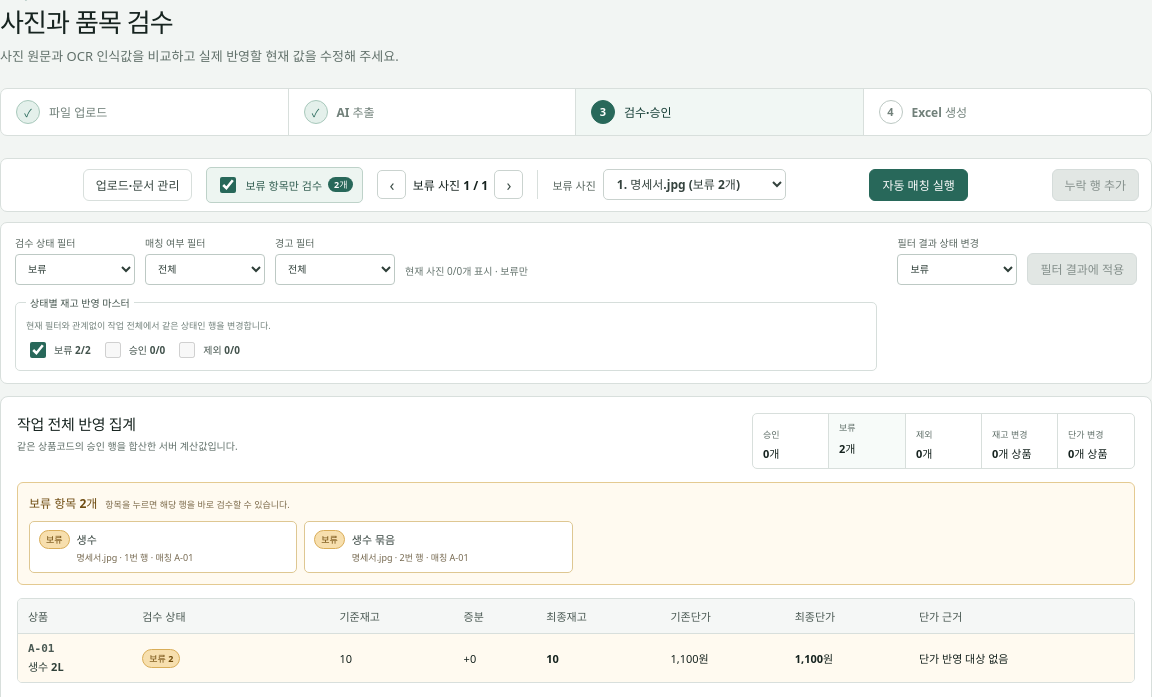
Test case: 사진과 품목 검수 › 집계 상품을 클릭하면 이동 없이 분할 편집 화면을 열고 값을 저장한다
Click the button with aria-label "A-01 생수 2L 바로 수정".
click(75, 658)  # box [28, 642, 122, 674]
(page scrolled)
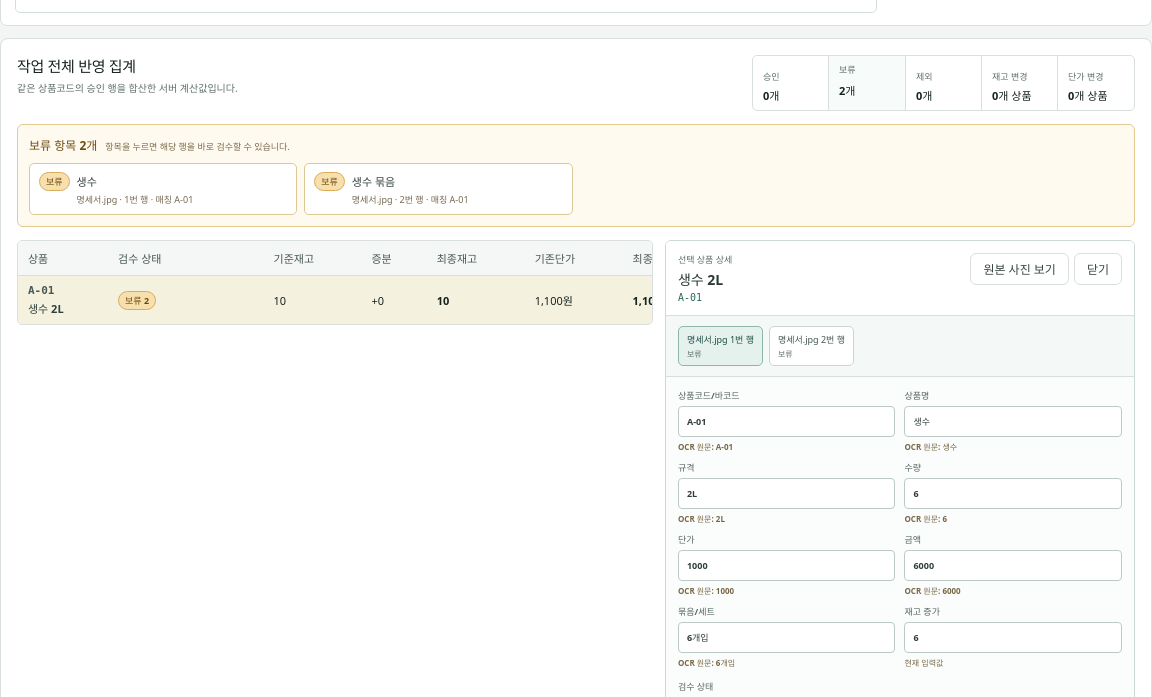
Check: the heading "생수 2L" is shown, box [678, 270, 723, 289]
Click the button "명세서.jpg 2번 행 보류".
click(812, 346)  # box [769, 326, 854, 366]
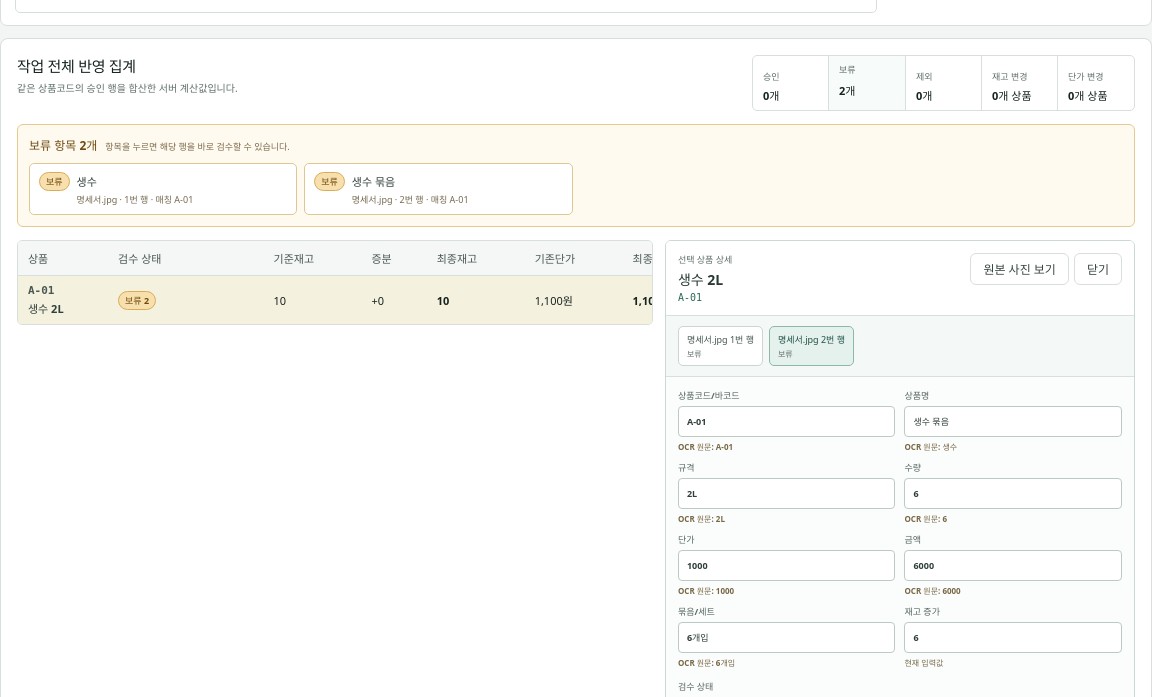
Check: the field named "명세서.jpg 2번 행 상품명" holds "생수 묶음", box [904, 406, 1122, 437]
Click the button "명세서.jpg 1번 행 보류".
click(720, 346)  # box [678, 326, 763, 366]
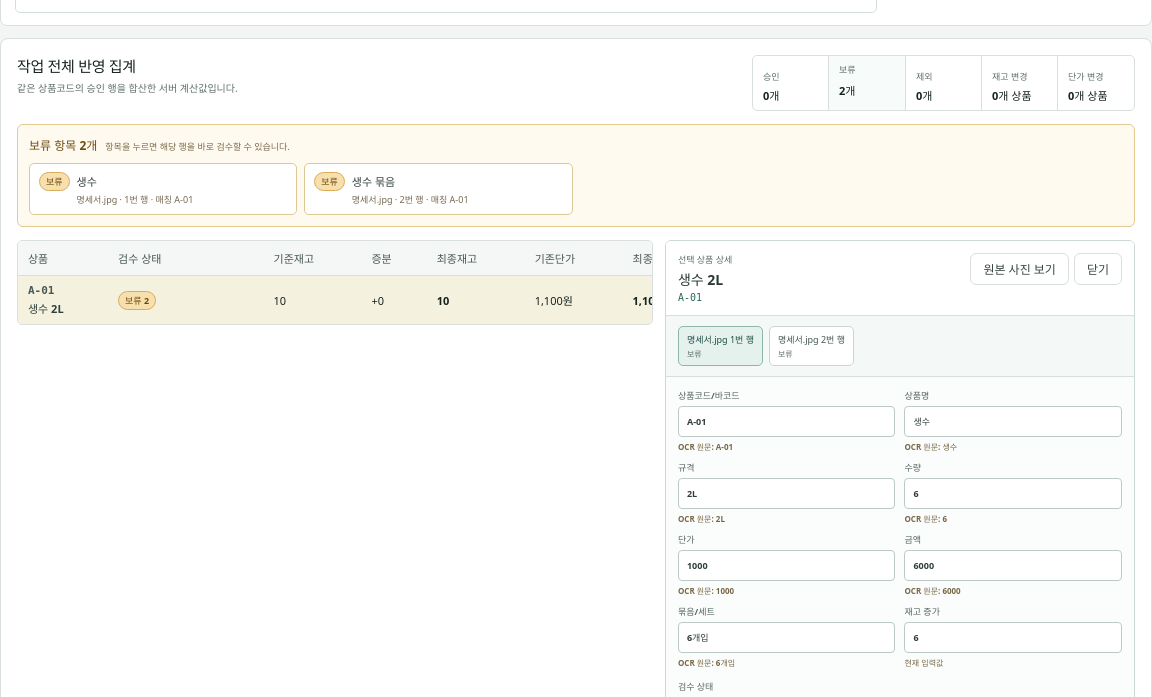
Replace the text in the number field named "명세서.jpg 1번 행 재고 증가" with "8" at (1013, 637), box [904, 622, 1122, 653]
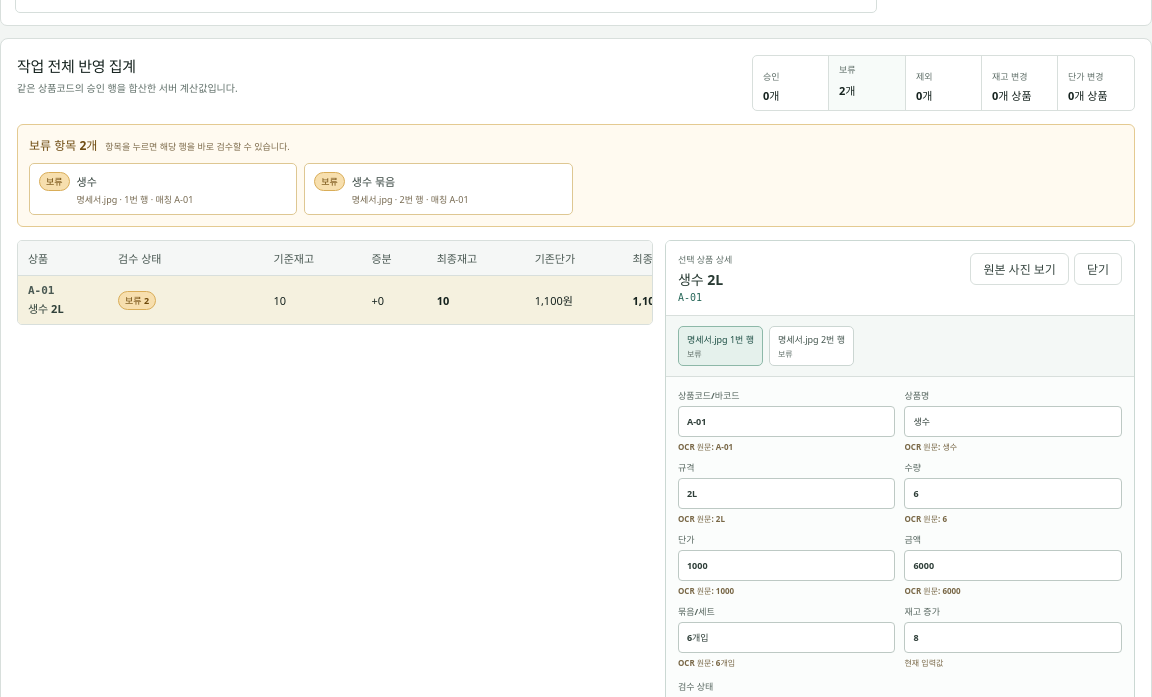
Leave the number field named "명세서.jpg 1번 행 재고 증가", box [904, 622, 1122, 653]
(page scrolled)
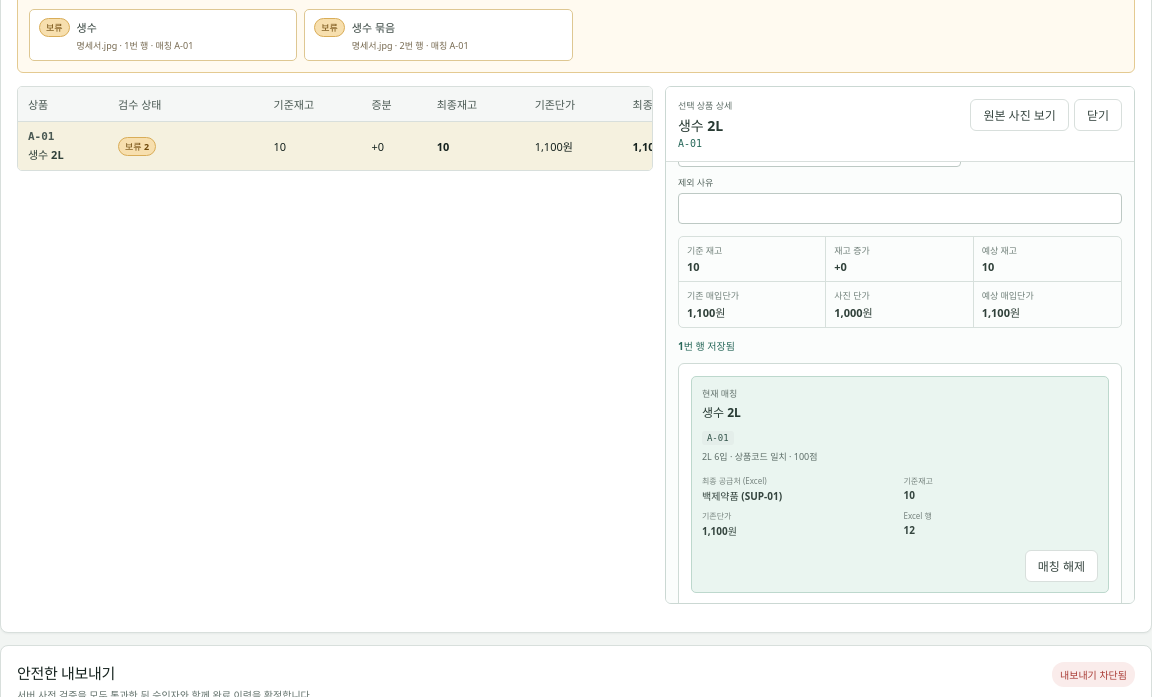
Check: the text "1번 행 저장됨" is shown, box [678, 339, 735, 353]
